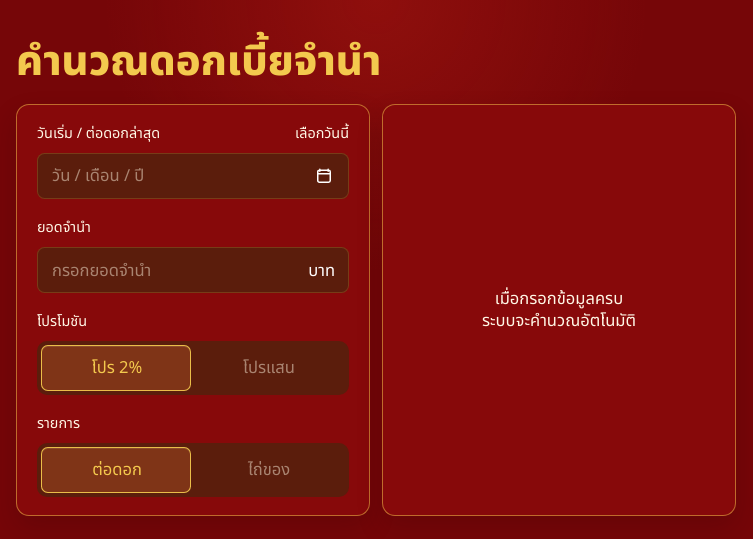
ManualCalculator › lets the user quickly fill today's date from the shortcut button
The image size is (753, 539).
Click the button "เลือกวันนี้": (322, 134) x1=295 y1=125 x2=349 y2=143
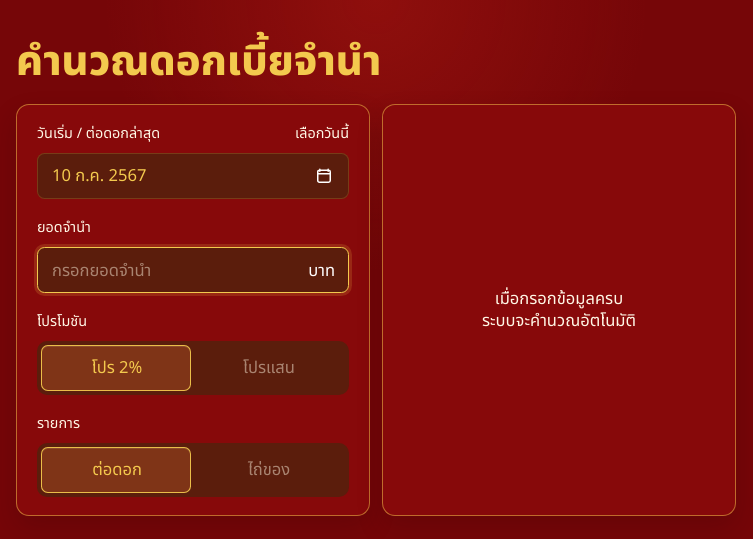
Now the text "10 ก.ค. 2567" is shown, box x1=52 y1=168 x2=146 y2=185
